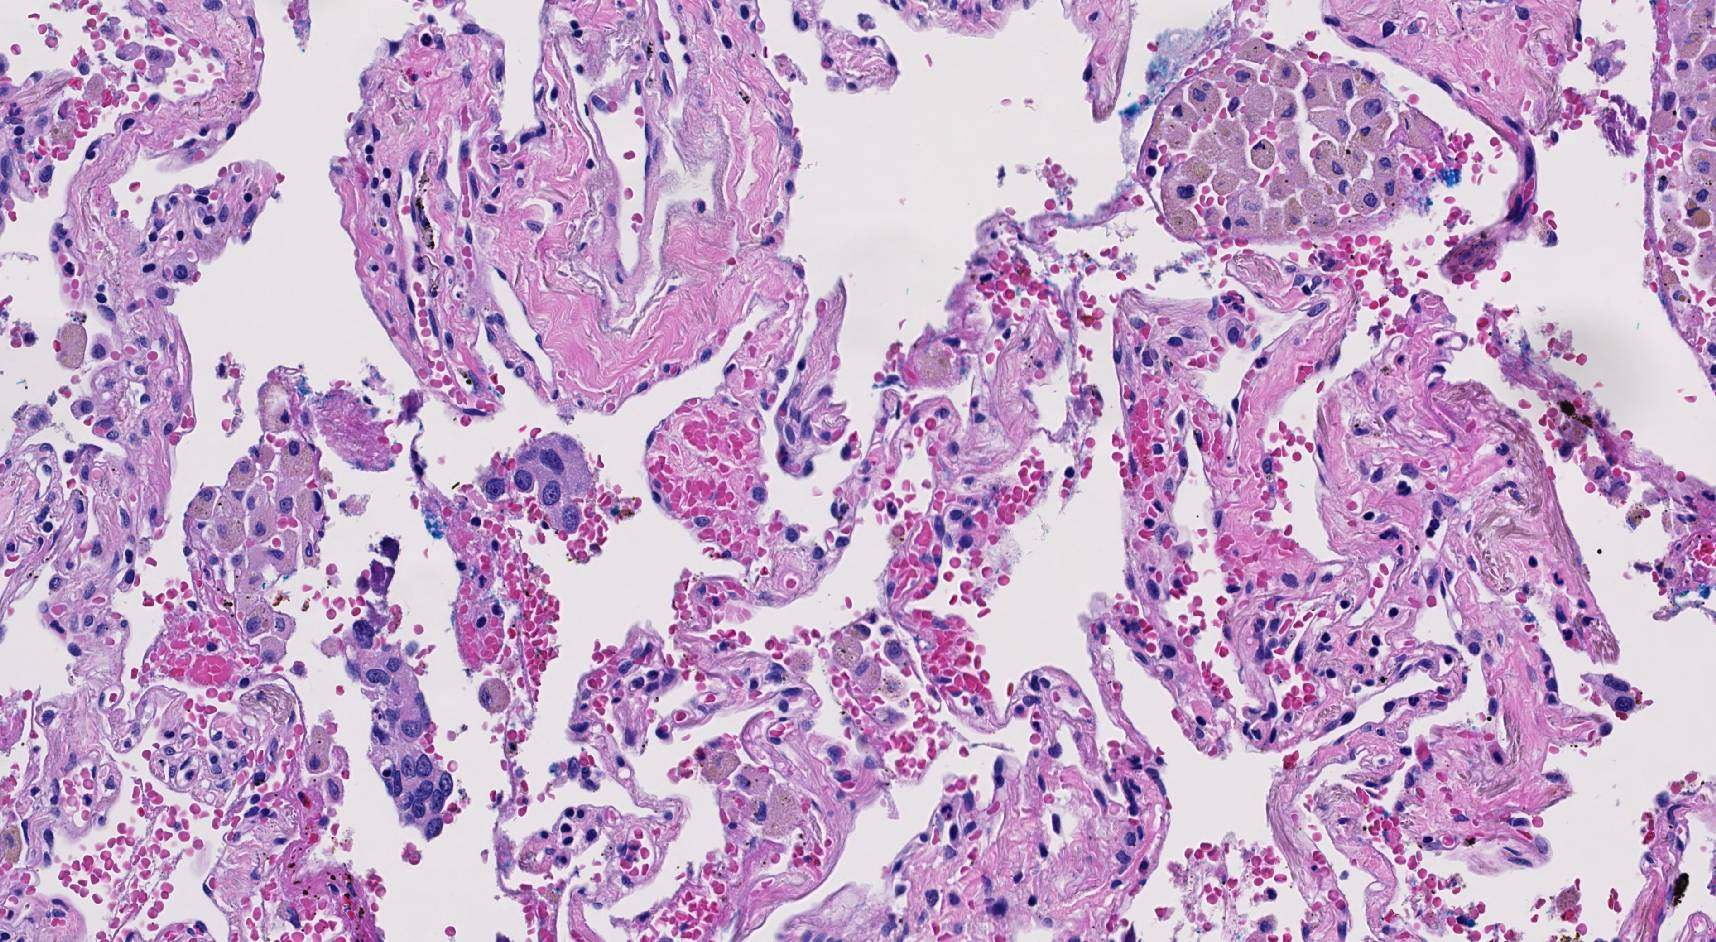stas: (342, 621, 453, 841), (480, 433, 595, 534)
